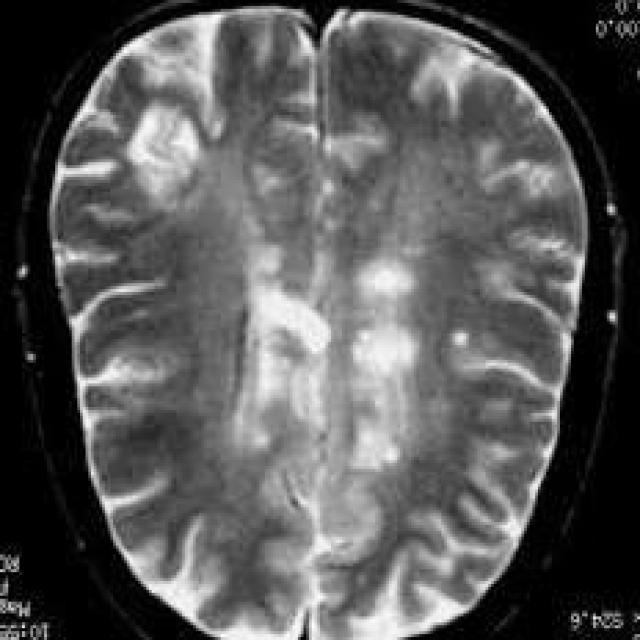notumor: (25, 0, 626, 637)
